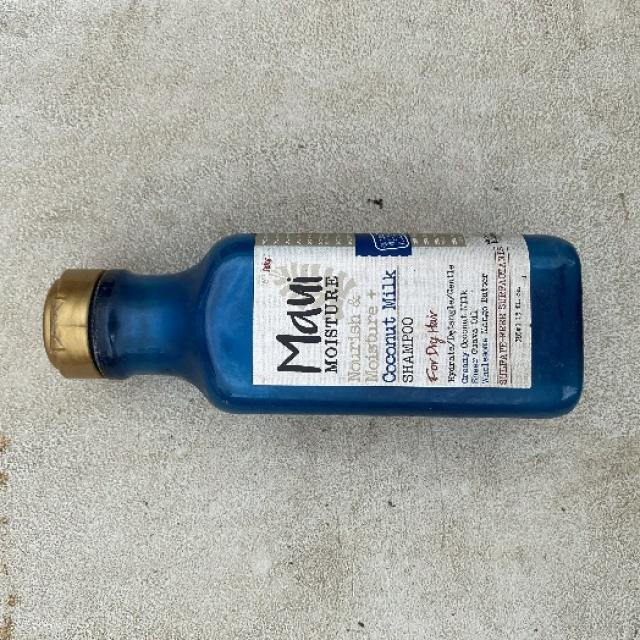plastic: (41, 230, 584, 418)
